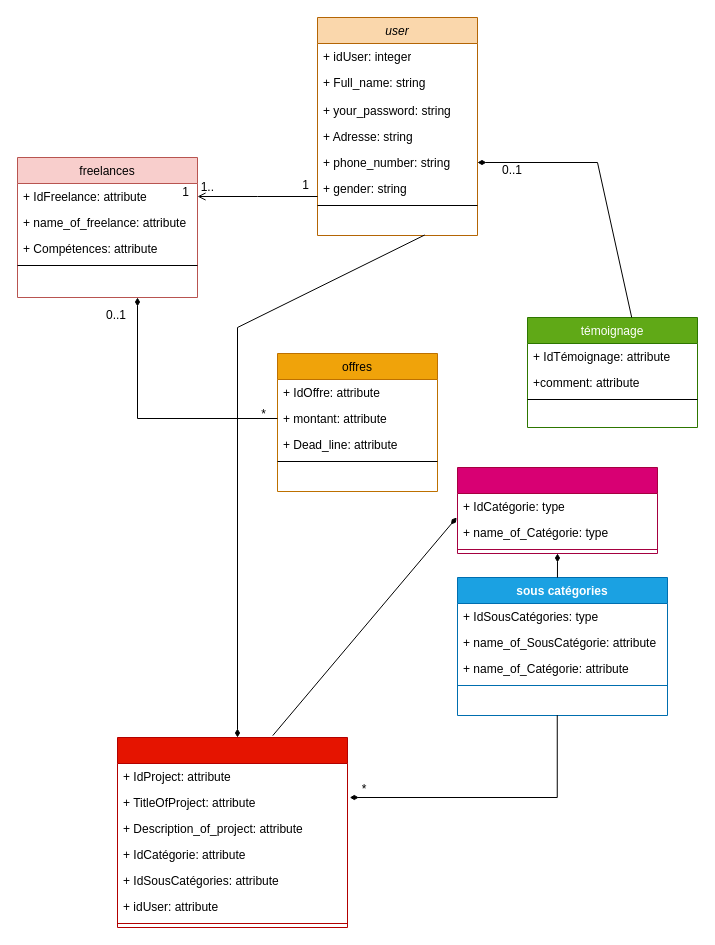
Image size: 715x945. Some labels were removed from this diagram. Each missing label, with the box of its shape:
catégories: (456, 466, 658, 554)
projects: (116, 736, 348, 928)
